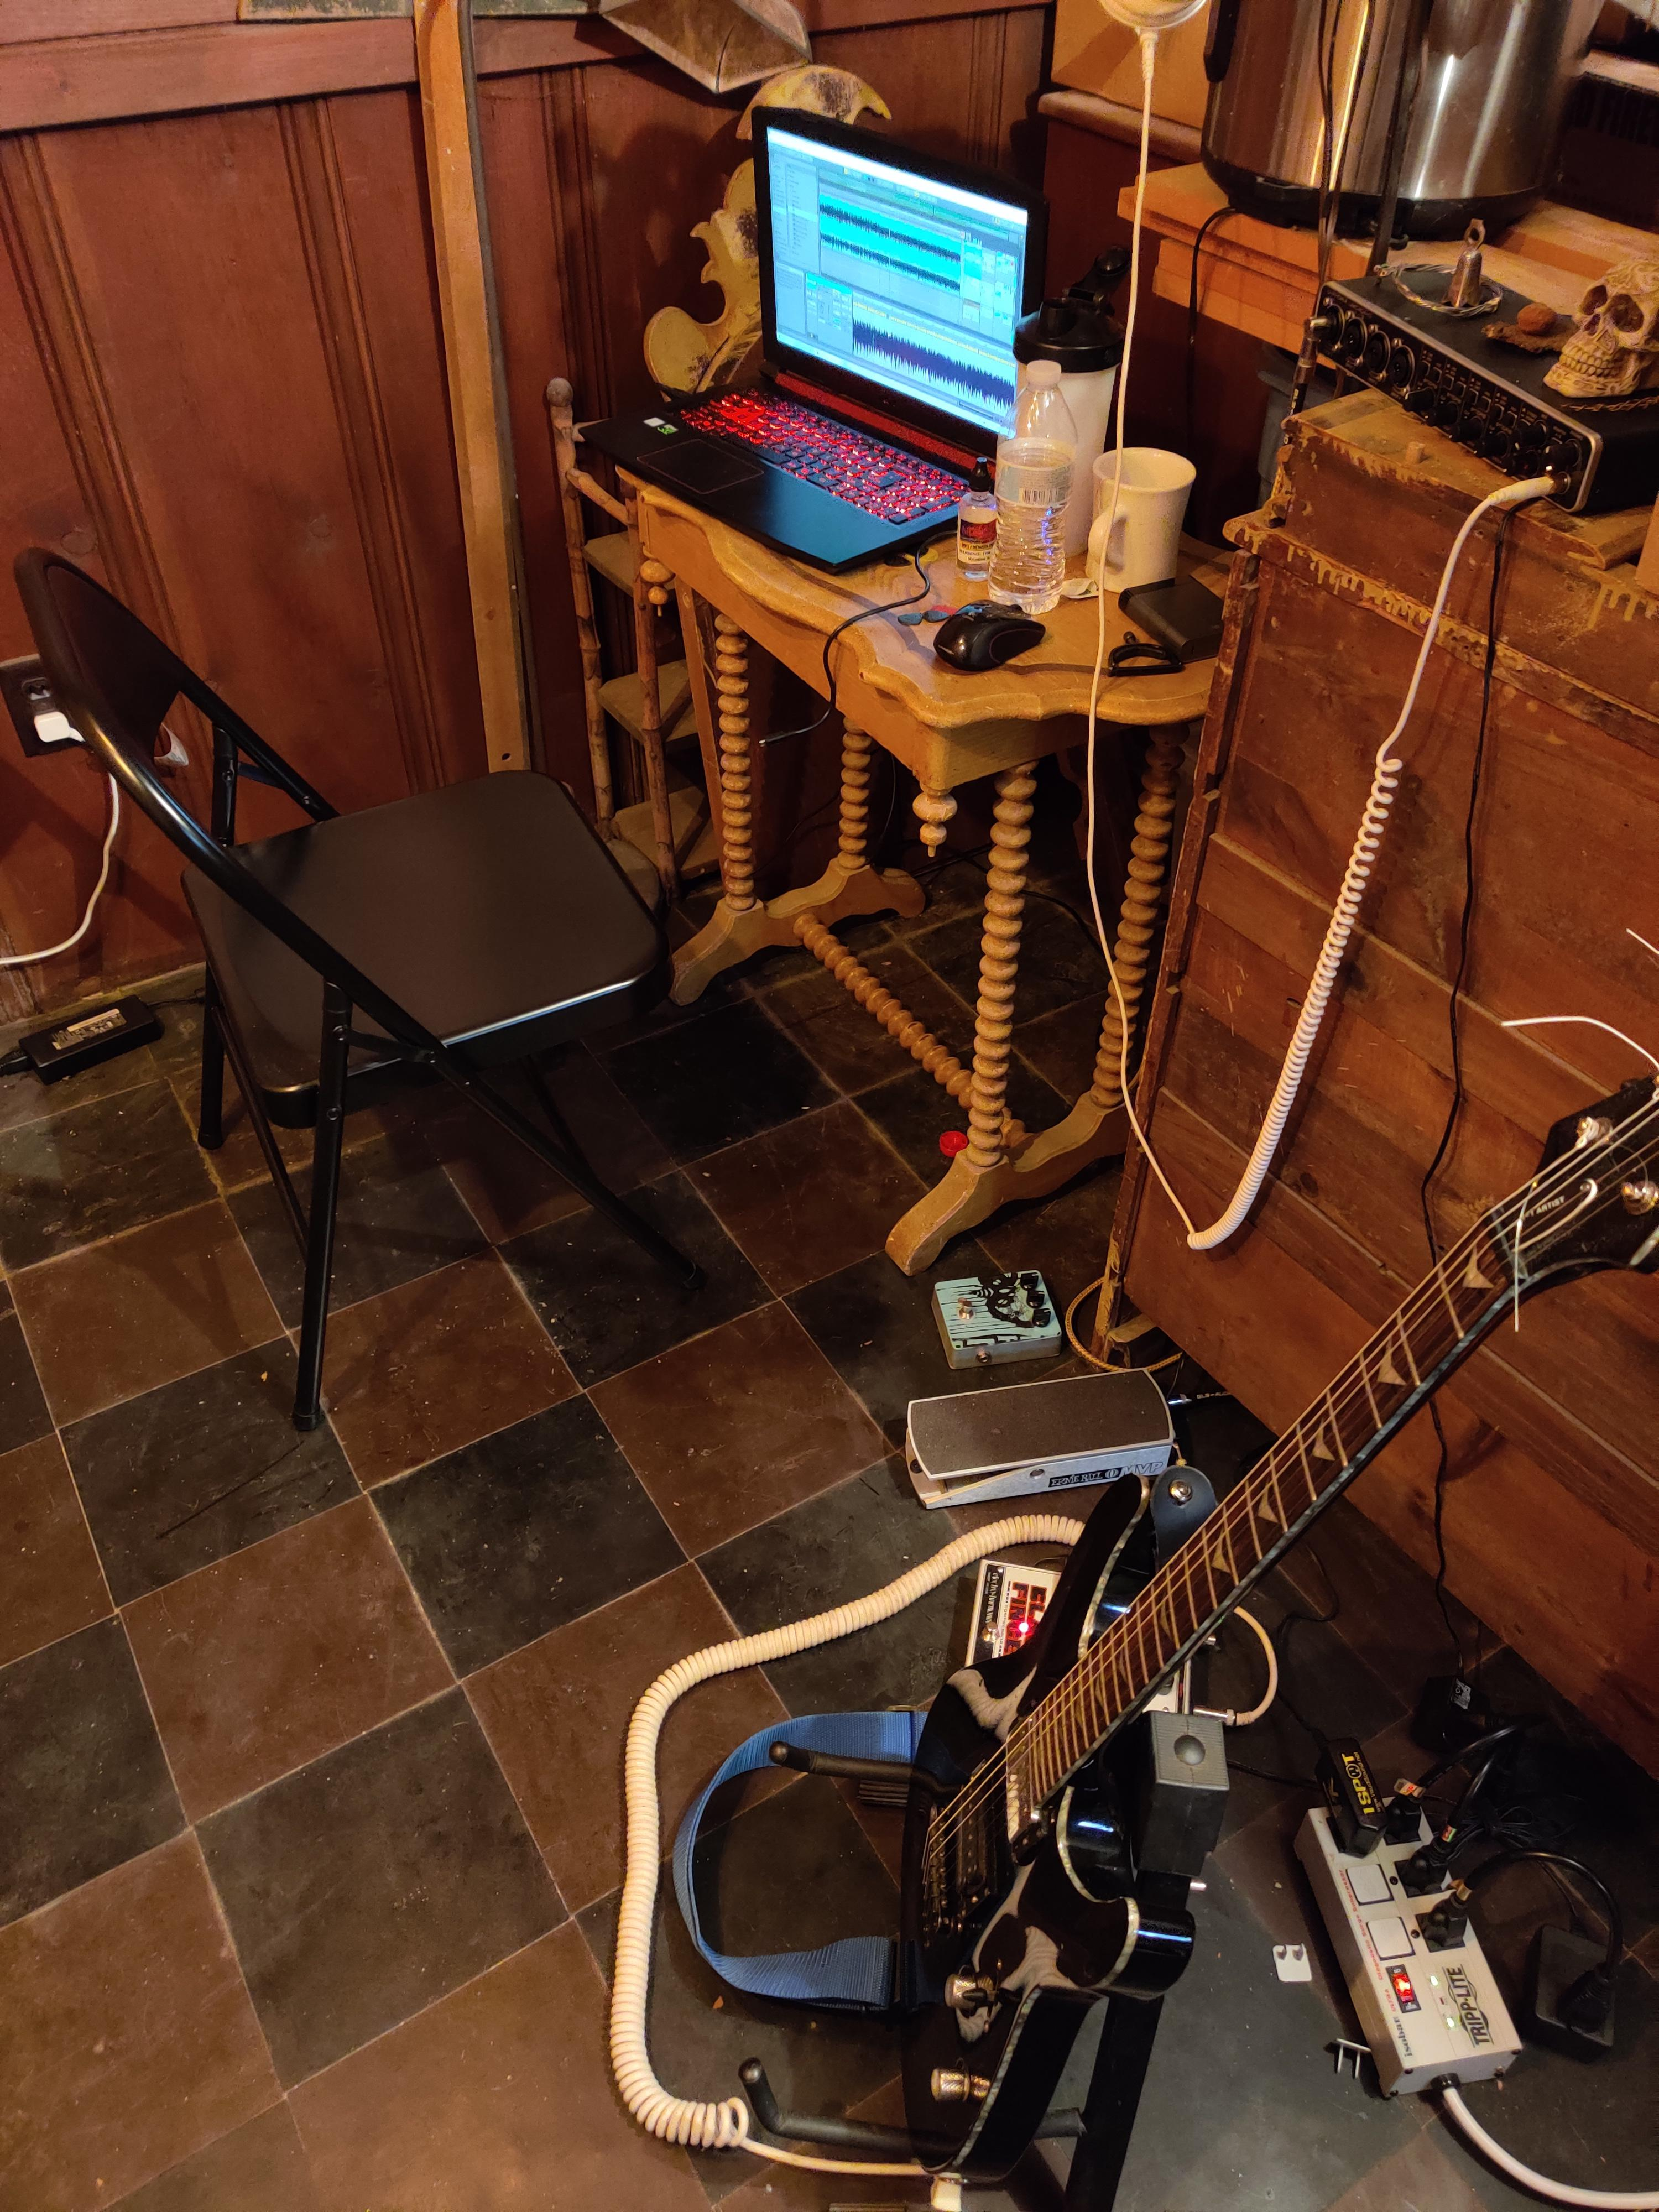Chair (Generic): (0, 528, 744, 1477)
Desk (Generic): (493, 355, 1274, 1270)
Laptop (Generic): (547, 80, 1060, 585)
Monitor (Laptop): (730, 73, 1054, 516)
Mouse (Generic): (915, 577, 1075, 691)
Mug: (1082, 416, 1195, 617)
Musical Instrument (Electric Guitar): (819, 1043, 1659, 2184)
Water Bottle: (972, 331, 1098, 606)
